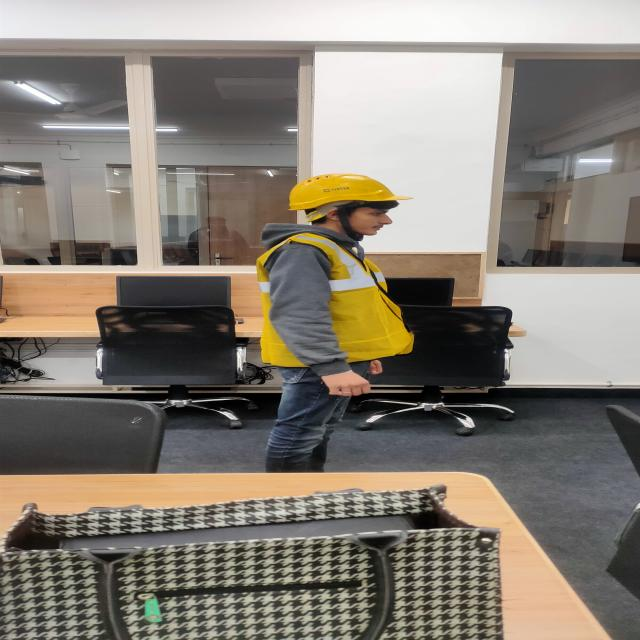safe: (258, 173, 415, 472)
